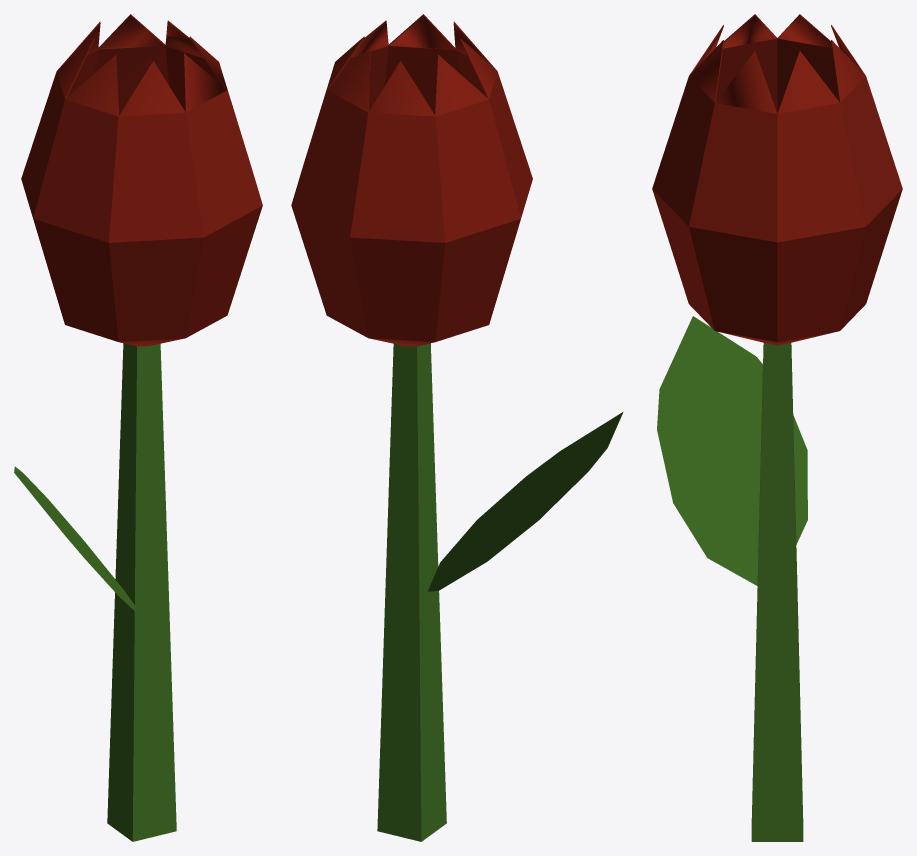
Rendered from tulipan_fbx.fbx.
The picture shows the model from 3 angles, left to right: view 1: azimuth 30°, elevation 25°; view 2: azimuth 150°, elevation 25°; view 3: azimuth 270°, elevation 25°; orthographic projection.
Parts seen in each view (by area): view 1: Sphere003; view 2: Sphere003; view 3: Sphere003.
Part boxes in pixels (<box>): Sphere003: <box>14,14,262,841</box>; Sphere003: <box>291,14,623,841</box>; Sphere003: <box>652,14,902,841</box>.
Size of the model in its own units: 18.45 by 49.97 by 14.21.
